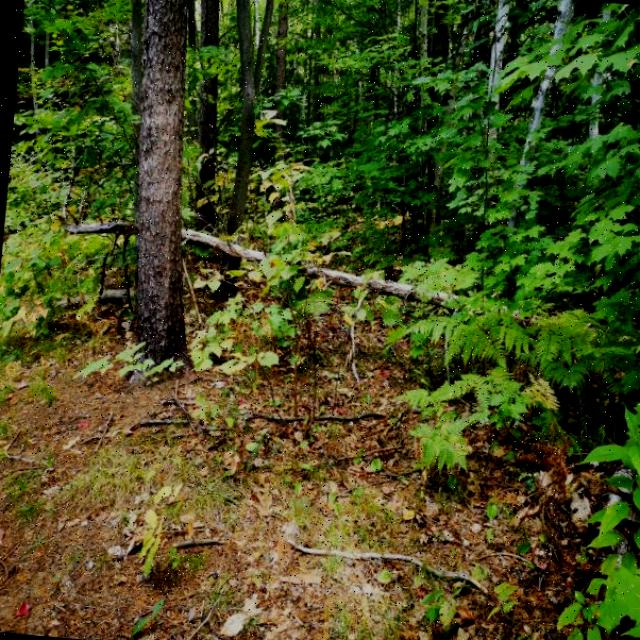fallen_object: (44, 155, 640, 375)
